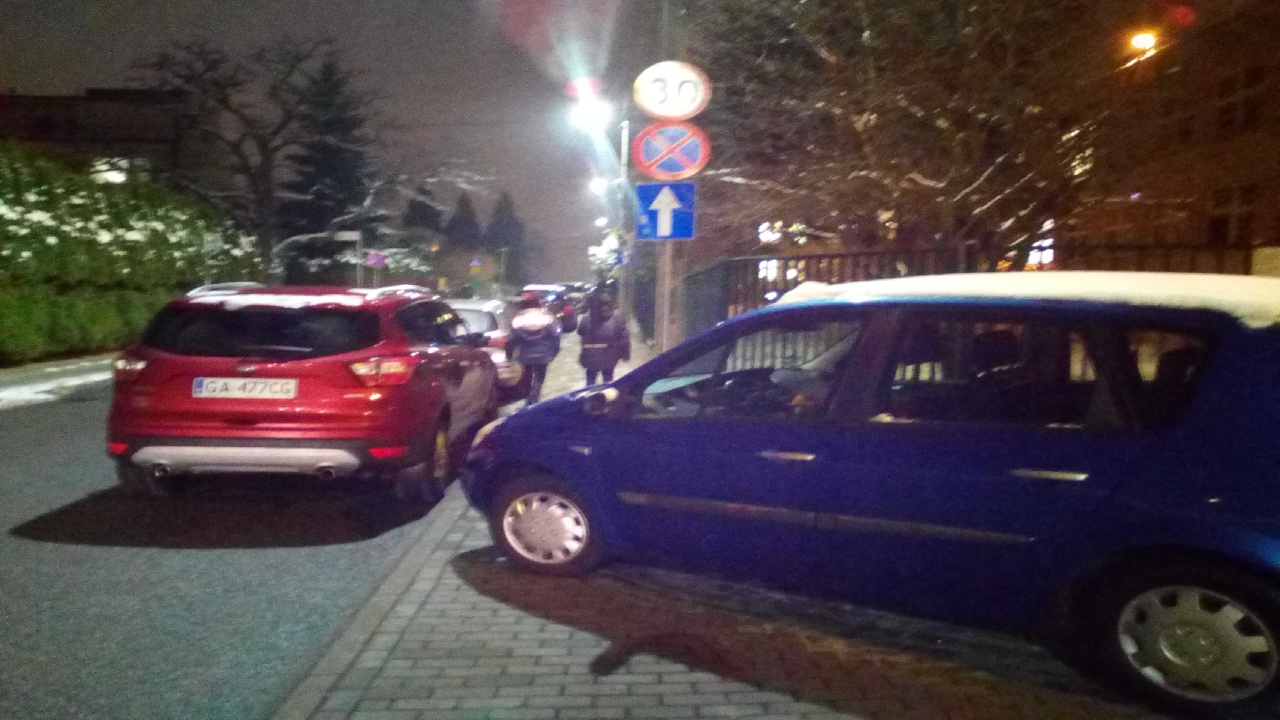B33_30: (632, 60, 714, 123)
B36: (632, 122, 711, 181)
D3: (636, 183, 695, 239)
